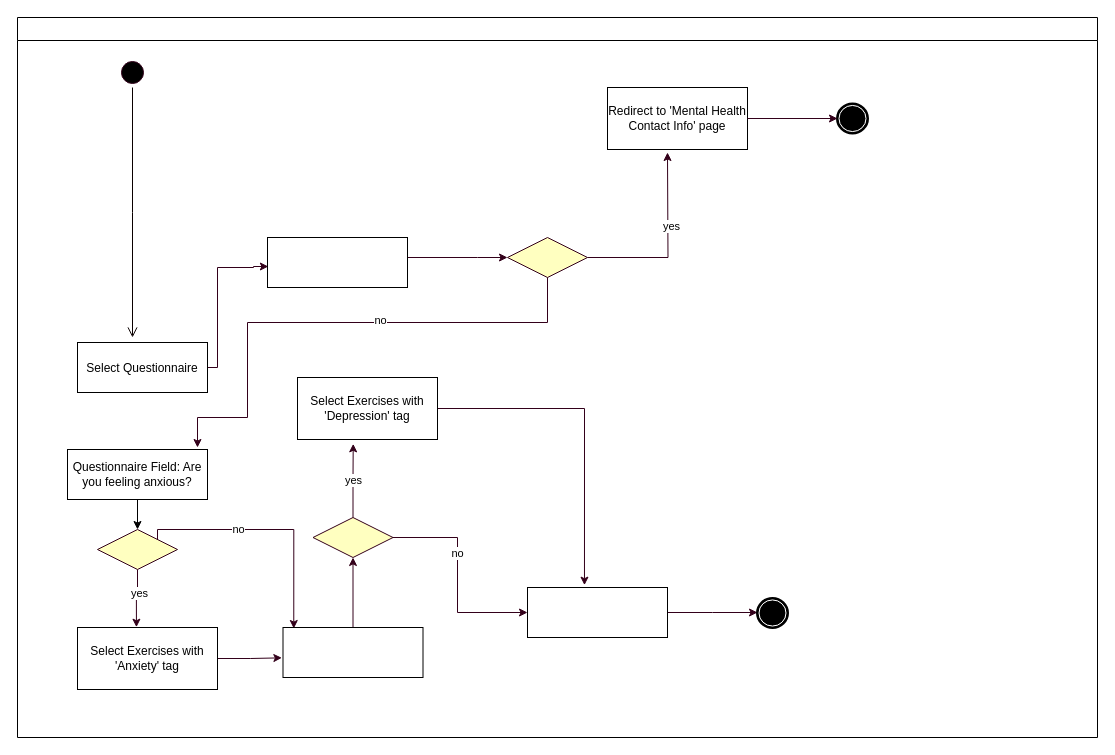
This 1115x755 diagram has some shape labels left out. The shapes that lost their labels are listed below. From the top down, each one's centre as x and y in pixels, then its label:
At [337,262]: "Questionnaire Field: Are you in need of immediate help?".
At [597,612]: "Redirect to Exercises page with selected filters".
At [352,652]: "Questionnaire Field: Are you feeling depressed?".
